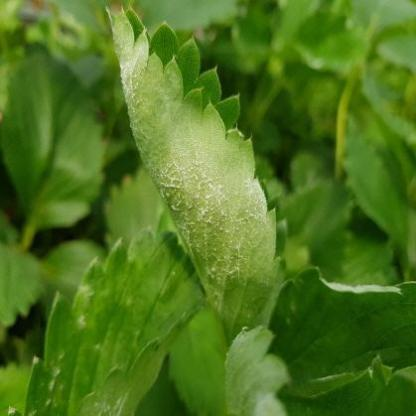Strawberry_Powdery_Mildew_Leaf: (101, 4, 288, 352), (8, 226, 208, 415), (265, 266, 415, 398)
